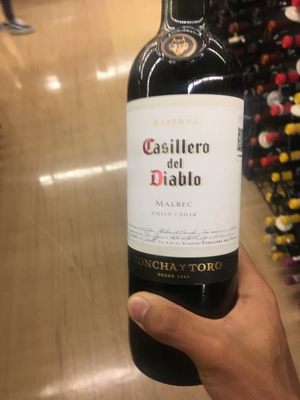casillero del diablo malbec: (120, 8, 261, 365)
